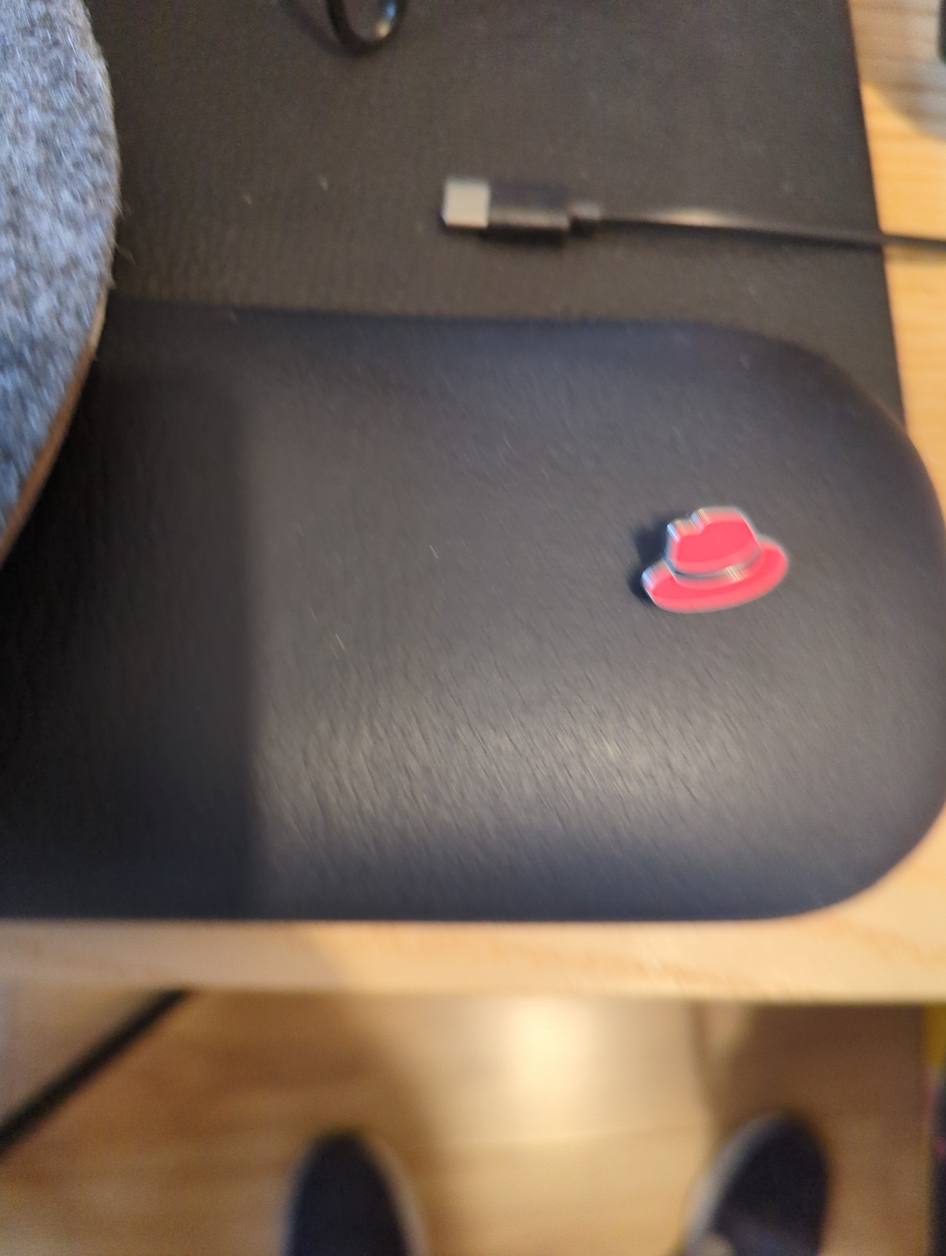Red-Hat: (572, 459, 876, 710)
